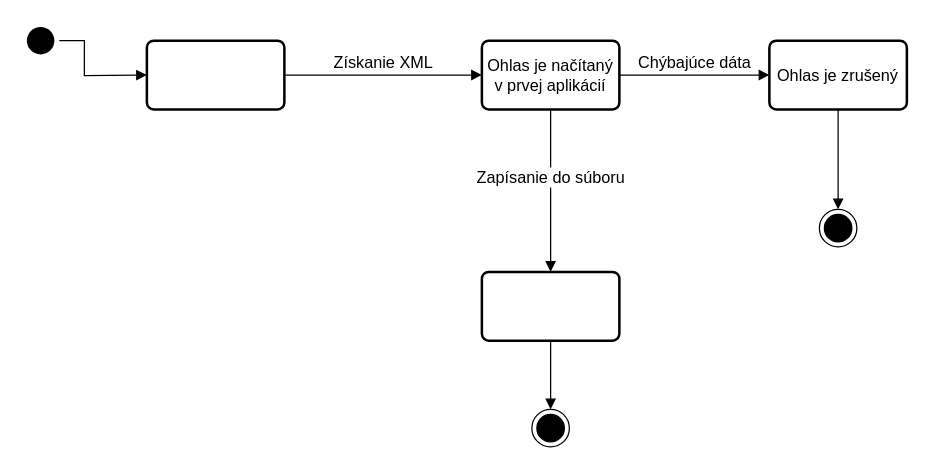
The diagram is 929 pixels wide and 469 high, and some of its shapes have lost their labels. Here are the shapes that lost their labels. From the top down, the box of each, then its label:
(145, 39, 285, 110): Ohlas sa nachádza v CREPČ2
(480, 270, 620, 341): Ohlas je uložený v súbore (iso2709)
